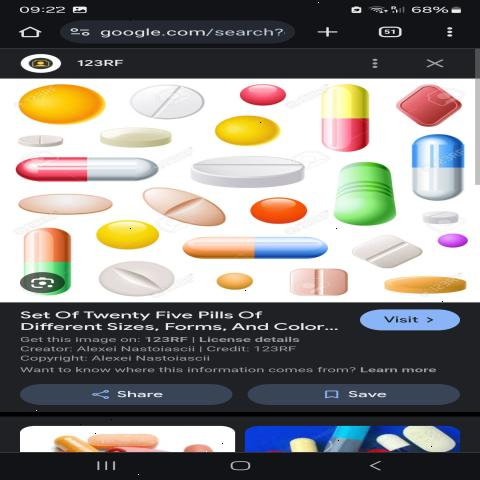Pill: (180, 147, 323, 192), (402, 127, 476, 206), (82, 257, 210, 300), (11, 152, 173, 184), (135, 183, 235, 230), (113, 81, 219, 125), (340, 230, 436, 272), (280, 267, 372, 304), (16, 190, 125, 220), (77, 215, 168, 248), (204, 113, 290, 143), (91, 123, 185, 148), (9, 128, 82, 152), (422, 207, 476, 227)
